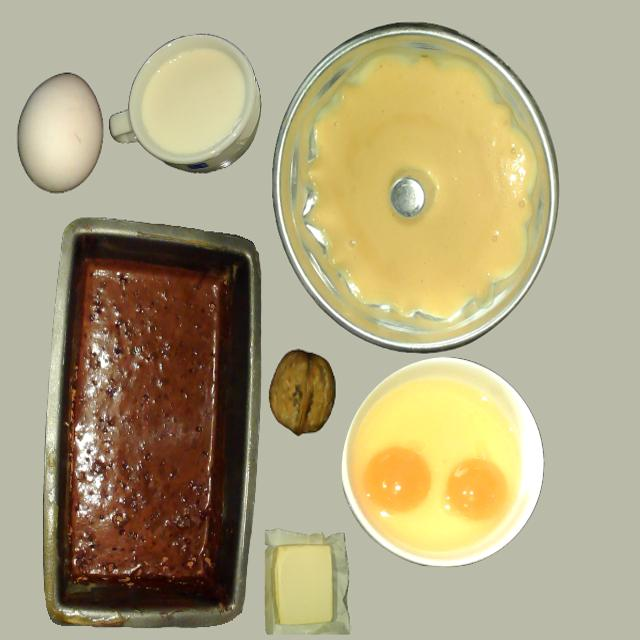Egg: (364, 447, 430, 513), (445, 458, 506, 521)
Milk: (144, 50, 241, 151)
Walnut: (268, 351, 334, 435)
